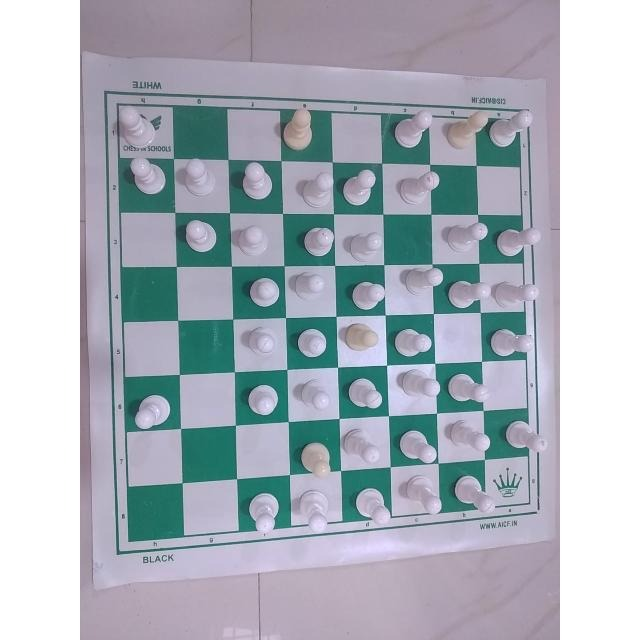white-pawn: (489, 108, 533, 148), (454, 473, 496, 514), (447, 109, 489, 149), (118, 104, 156, 147), (405, 473, 443, 515), (354, 486, 391, 528), (504, 418, 547, 453), (342, 427, 381, 465), (395, 109, 432, 149), (399, 169, 440, 204), (282, 106, 314, 150), (133, 393, 171, 430), (130, 155, 166, 194), (299, 488, 330, 533), (450, 419, 491, 453), (447, 220, 489, 253), (183, 156, 217, 196), (495, 226, 540, 256), (399, 428, 437, 463), (448, 279, 492, 309), (249, 491, 279, 535), (494, 279, 539, 308), (448, 371, 490, 402), (489, 328, 535, 356), (404, 264, 443, 297), (242, 160, 273, 200), (343, 168, 376, 205), (300, 441, 332, 479), (401, 368, 441, 398), (394, 327, 432, 357), (184, 219, 217, 253), (303, 170, 335, 205), (299, 377, 331, 410), (349, 377, 382, 409), (349, 230, 383, 261), (237, 224, 269, 256), (247, 325, 279, 357), (303, 225, 334, 257), (294, 271, 326, 302), (345, 322, 379, 351), (249, 275, 279, 307), (297, 326, 327, 358), (248, 384, 277, 416), (351, 281, 384, 309)
